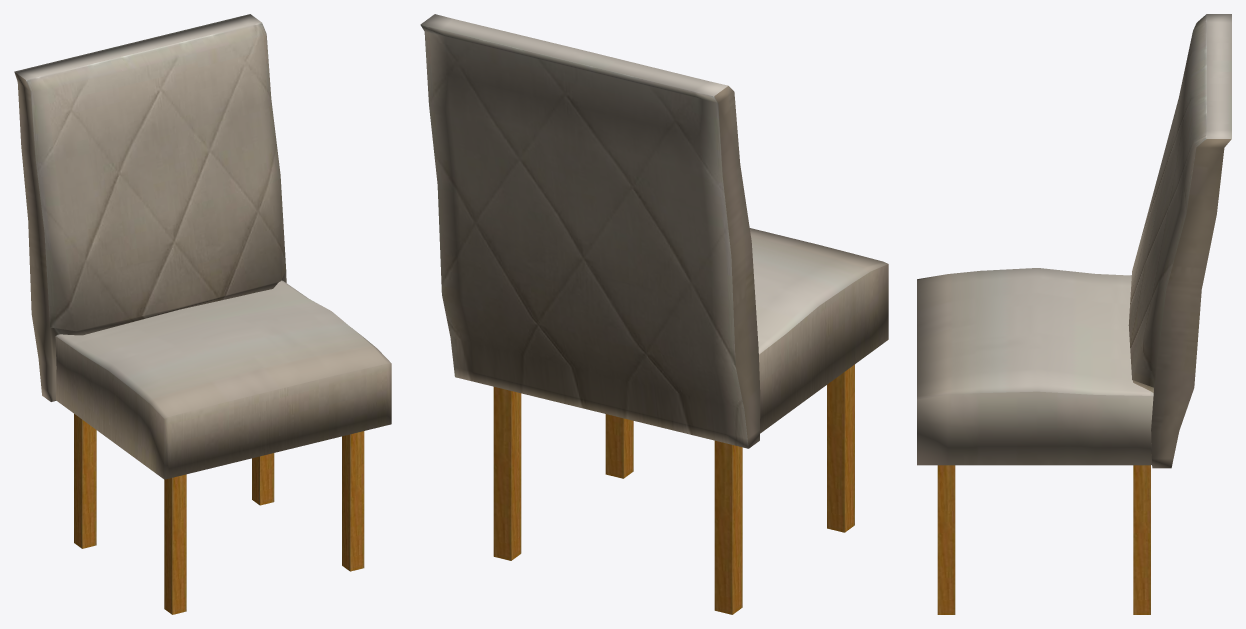
Rendered from cadeira.glb.
3 renders of one model, left to right at view 1: azimuth 30°, elevation 25°; view 2: azimuth 150°, elevation 25°; view 3: azimuth 270°, elevation 25°, orthographic. The views are drawn at different scales.
Parts seen in each view (by area): view 1: encosto, assento, pe1, pe1.001, pe1.002, pe1.005; view 2: encosto, assento, pe1.002, pe1.005, pe1, pe1.001; view 3: assento, encosto, pe1.001, pe1.005.
Boxes of the visible parts, x1,y1,x2,y2 form: encosto: (14, 14, 286, 401); assento: (55, 280, 391, 479); pe1: (164, 474, 186, 614); pe1.001: (342, 431, 364, 571); pe1.002: (74, 414, 96, 548); pe1.005: (252, 453, 274, 505); encosto: (420, 14, 760, 448); assento: (749, 228, 888, 433); pe1.002: (714, 440, 742, 614); pe1.005: (493, 387, 521, 560); pe1: (827, 364, 854, 532); pe1.001: (605, 414, 633, 478); assento: (917, 268, 1153, 465); encosto: (1128, 14, 1231, 468); pe1.001: (937, 465, 955, 614); pe1.005: (1133, 465, 1150, 614).
Size of what is drawn, in the model's own units: 2.36 by 4.29 by 2.51.
Materials: 4 (4 with a texture image).
